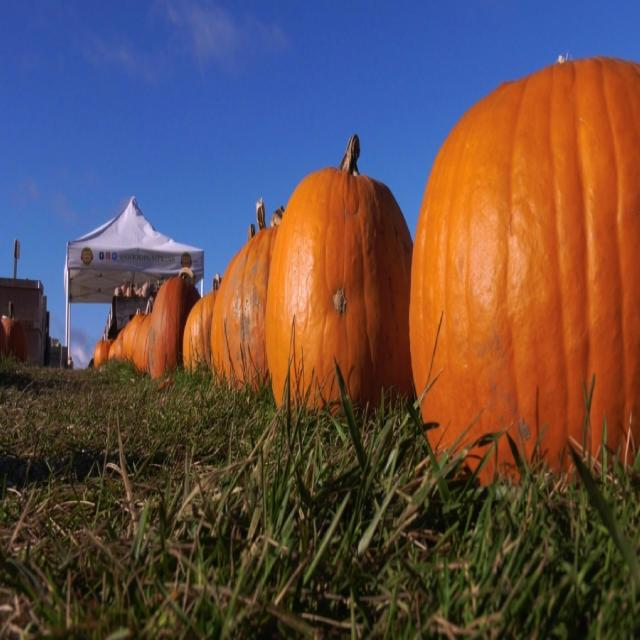pumpkin: (409, 58, 640, 467), (265, 136, 412, 406), (210, 199, 284, 390), (149, 277, 200, 380), (182, 290, 216, 371), (1, 301, 28, 361), (121, 313, 145, 362), (132, 315, 151, 373), (109, 328, 124, 360), (94, 339, 111, 365), (0, 319, 9, 354)
